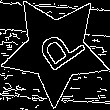P_SW: (26, 21, 86, 79)
